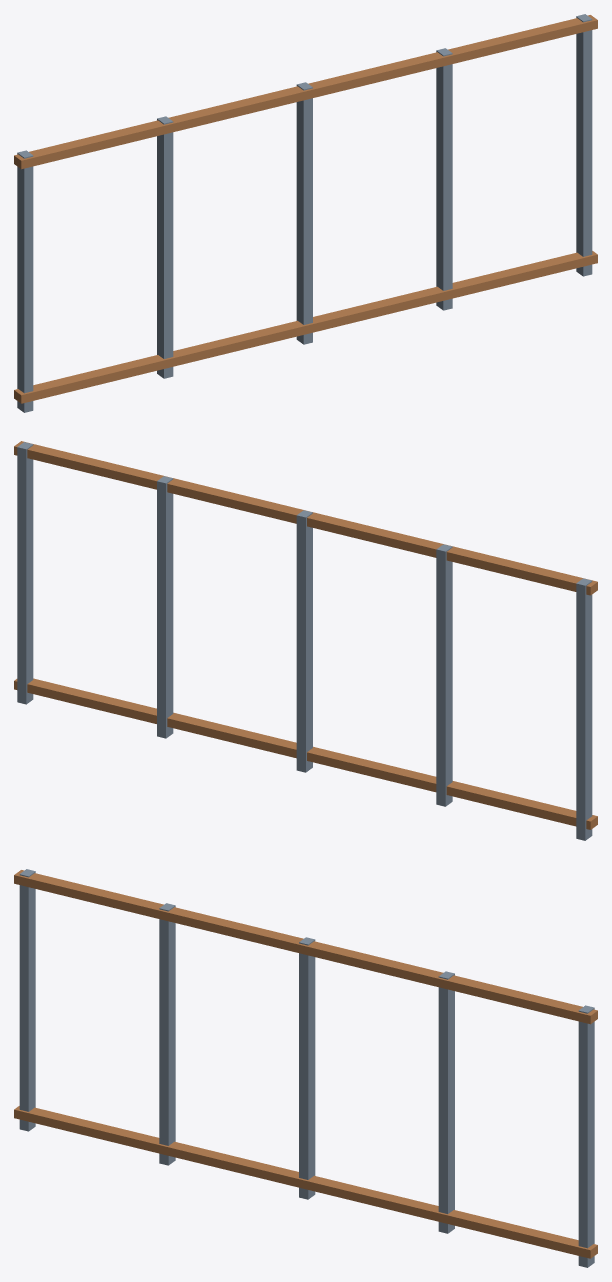
File: 06_PS_Studio_PanoramicWindowMullions.fbx
The picture shows the model from 3 angles, top to bottom: view 1: azimuth 30°, elevation 25°; view 2: azimuth 150°, elevation 25°; view 3: azimuth 330°, elevation 25°; orthographic projection.
Parts seen in each view (by area): view 1: PS_Studio_PanoramicWindowMullions; view 2: PS_Studio_PanoramicWindowMullions; view 3: PS_Studio_PanoramicWindowMullions.
Boxes of the visible parts, left/top/right/bottom form: PS_Studio_PanoramicWindowMullions: left=14, top=14, right=597, bottom=412; PS_Studio_PanoramicWindowMullions: left=14, top=441, right=597, bottom=840; PS_Studio_PanoramicWindowMullions: left=14, top=869, right=597, bottom=1267.
Bounding box in the file's own units: 1135 × 480 × 28.5.
